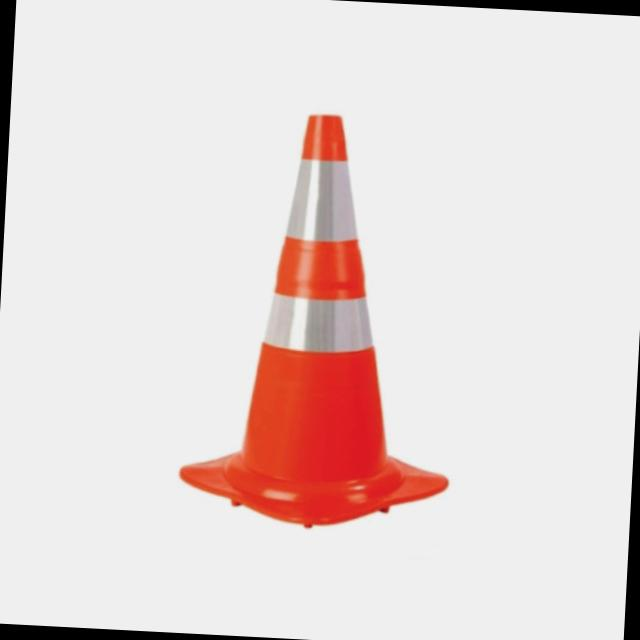cone: (169, 103, 476, 552)
